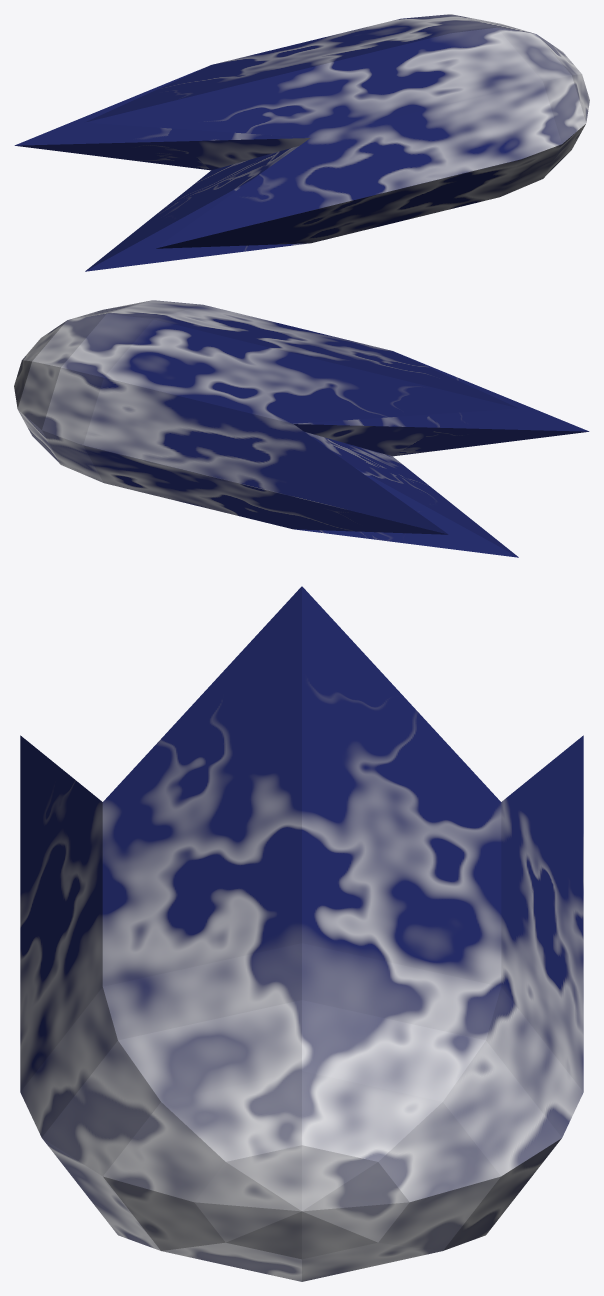
Rendered from PlayerSpeedShot.fbx.
3 views of the same model, one above another, from view 1: azimuth 30°, elevation 25°; view 2: azimuth 150°, elevation 25°; view 3: azimuth 270°, elevation 25° (orthographic). The views are drawn at different scales.
Parts seen in each view (by area): view 1: PlayerSpeedShot; view 2: PlayerSpeedShot; view 3: PlayerSpeedShot.
Part boxes in pixels (x1=…): PlayerSpeedShot: x1=14, y1=14, x2=589, y2=271; PlayerSpeedShot: x1=14, y1=300, x2=589, y2=557; PlayerSpeedShot: x1=20, y1=586, x2=583, y2=1281.
Bounding box in the file's own units: 400 × 117 × 200.
